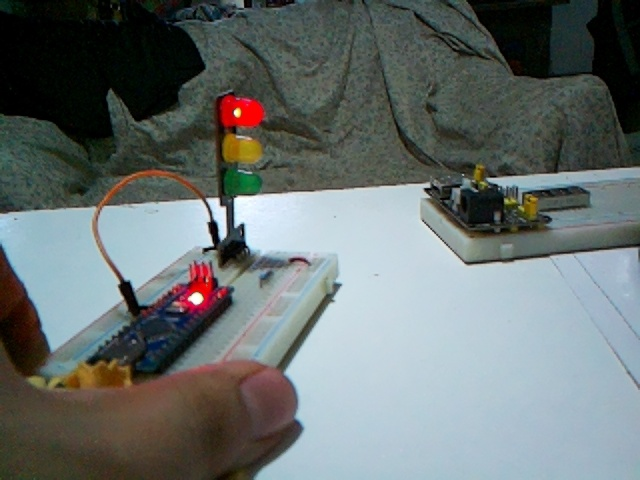traffic_light_red: (216, 92, 265, 262)
